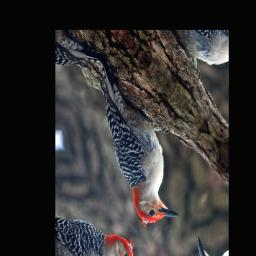Woodpecker: (60, 55, 205, 247)
